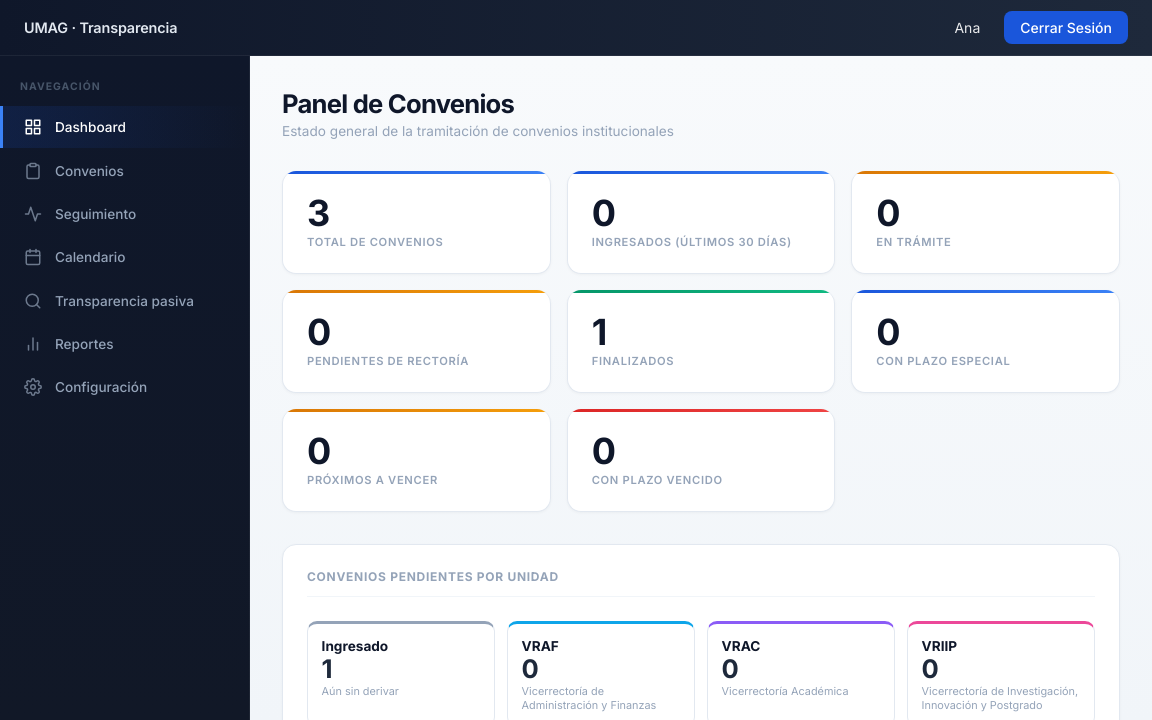
Test: filtros del listado de convenios › la tarjeta del dashboard aplica su filtro
This screenshot has width=1152, height=720.
Step 1. Click the text "Finalizados" → click(633, 361), box [592,354,674,368]
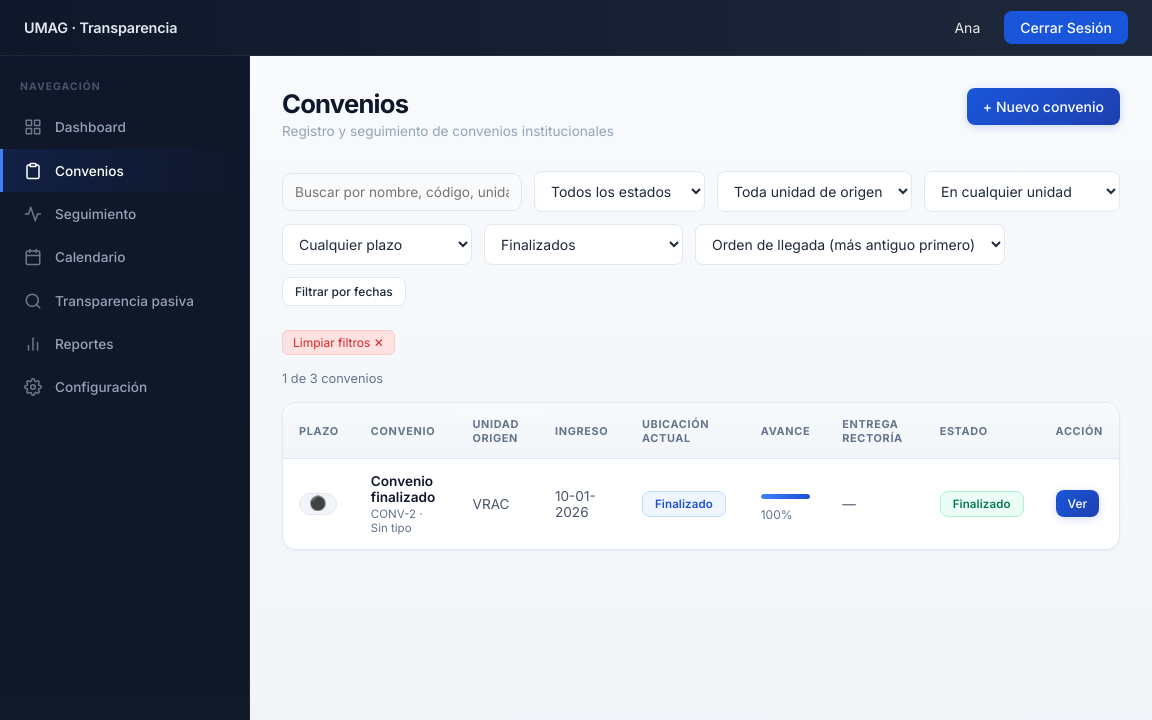
Expected: the field with placeholder "Buscar por nombre, código, unidad, contraparte..." is shown, [282,172,522,210]
Expected: the text "1 de 3 convenios" is shown, [282,371,383,386]
